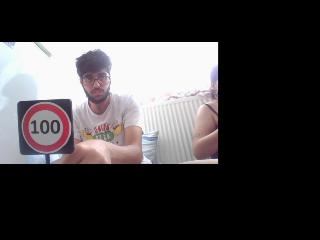Speedlimit_100: (19, 100, 72, 154)
